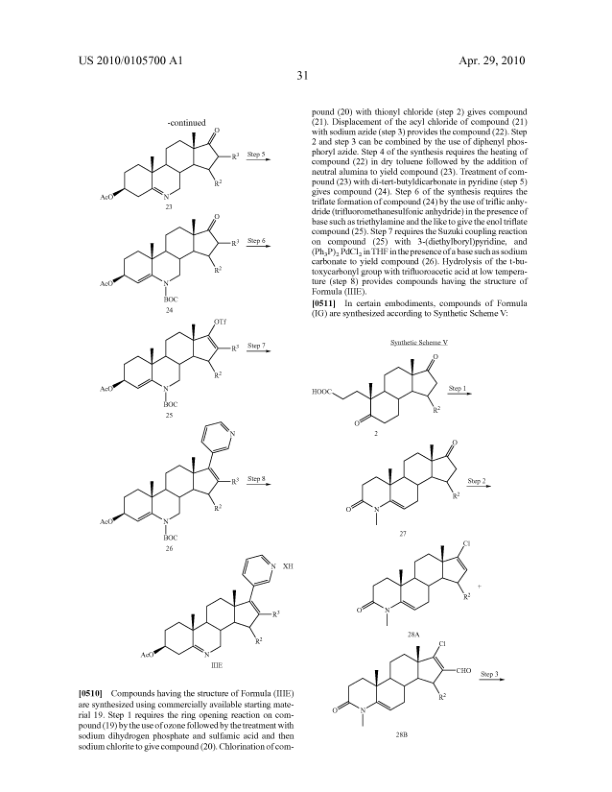compound-structure: (130, 553, 296, 671), (99, 423, 240, 553), (97, 102, 239, 213), (332, 634, 472, 741), (98, 313, 240, 417), (96, 214, 236, 312), (311, 335, 443, 434), (357, 532, 480, 629), (347, 439, 459, 532)
reaction: (68, 90, 612, 757)
reaction-arrow: (243, 232, 273, 257), (463, 474, 492, 496), (246, 471, 273, 491), (247, 335, 270, 358), (447, 385, 474, 404), (248, 147, 270, 167), (477, 670, 503, 685)
